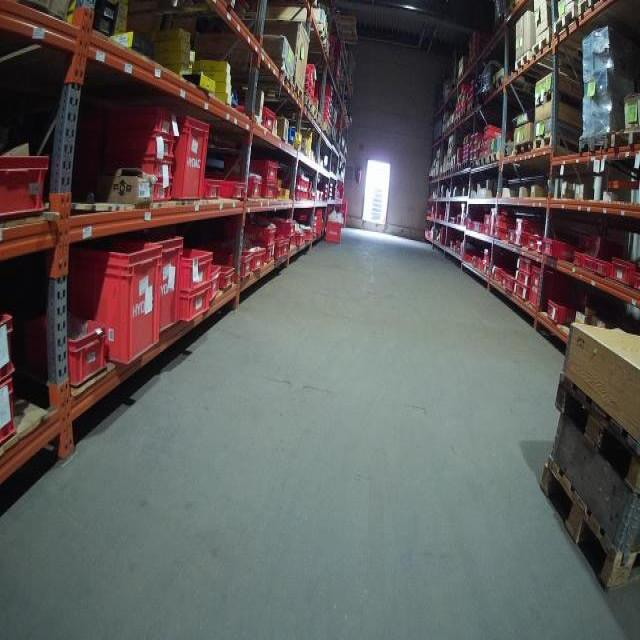pallet: (533, 469, 638, 595), (547, 371, 640, 498), (533, 134, 576, 153), (553, 5, 576, 38), (610, 127, 640, 150), (579, 135, 609, 156), (577, 0, 606, 18), (531, 34, 550, 59), (514, 49, 529, 73), (515, 139, 531, 157), (293, 78, 304, 103), (487, 150, 500, 165), (305, 95, 313, 116), (314, 105, 321, 125), (477, 155, 487, 168)
small_load_carrier: (67, 234, 171, 374), (134, 233, 184, 338), (0, 149, 58, 214), (172, 115, 214, 203), (66, 312, 106, 389), (174, 237, 217, 294), (98, 105, 180, 134), (99, 134, 178, 163), (173, 275, 215, 323), (1, 363, 22, 450), (233, 99, 278, 135), (103, 179, 172, 200), (103, 161, 177, 179), (240, 153, 281, 184), (232, 221, 278, 248), (209, 256, 236, 301), (225, 248, 254, 285), (203, 259, 226, 301), (540, 236, 571, 266), (545, 300, 576, 329), (611, 256, 634, 293), (207, 183, 237, 206), (222, 177, 247, 204), (245, 244, 266, 275), (531, 266, 556, 292), (322, 218, 346, 244), (2, 305, 10, 383), (525, 285, 548, 311), (250, 179, 277, 201), (244, 174, 265, 202), (270, 216, 294, 236), (515, 216, 541, 232), (273, 236, 289, 261), (512, 271, 533, 290), (511, 281, 530, 301), (514, 255, 535, 273), (535, 236, 550, 260), (261, 246, 275, 269), (494, 214, 516, 228), (294, 229, 307, 251), (492, 225, 509, 240), (594, 259, 608, 276), (491, 268, 508, 281), (521, 234, 535, 249), (502, 275, 515, 291), (584, 255, 594, 271), (530, 234, 536, 256)
